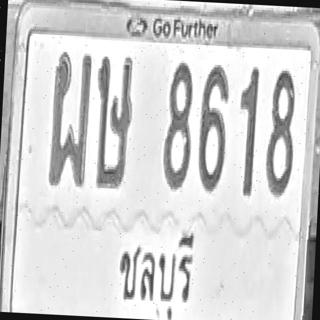A28: (48, 49, 92, 187)
A39: (92, 54, 134, 190)
N01: (235, 64, 260, 196)
N06: (197, 62, 230, 192)
N08: (264, 68, 298, 195), (162, 60, 194, 190)
P13: (113, 227, 197, 320)
